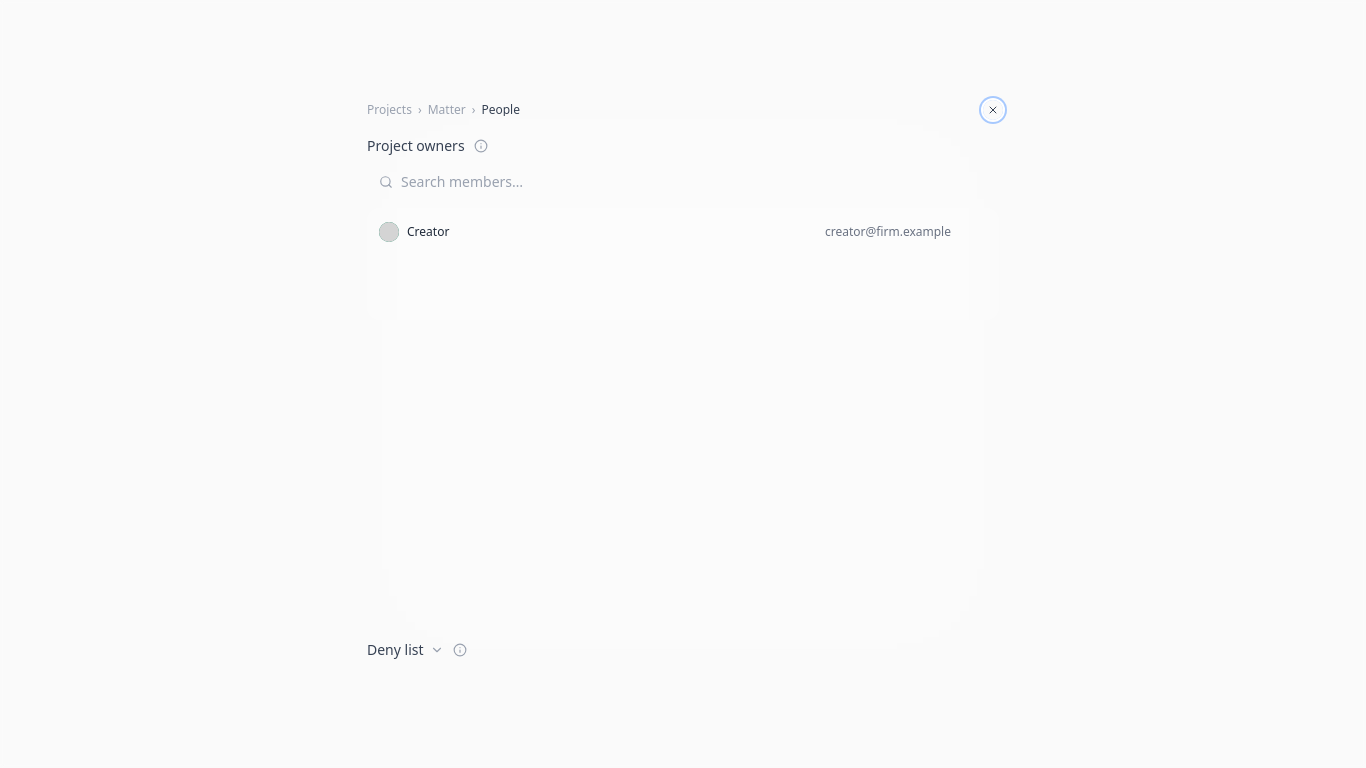
AccessModal — per-recipient roles › offers an organization's public item more owners and the deny list
Type "jane" into the search field labelled "Project owners" at (694, 182), box [401, 172, 987, 192]
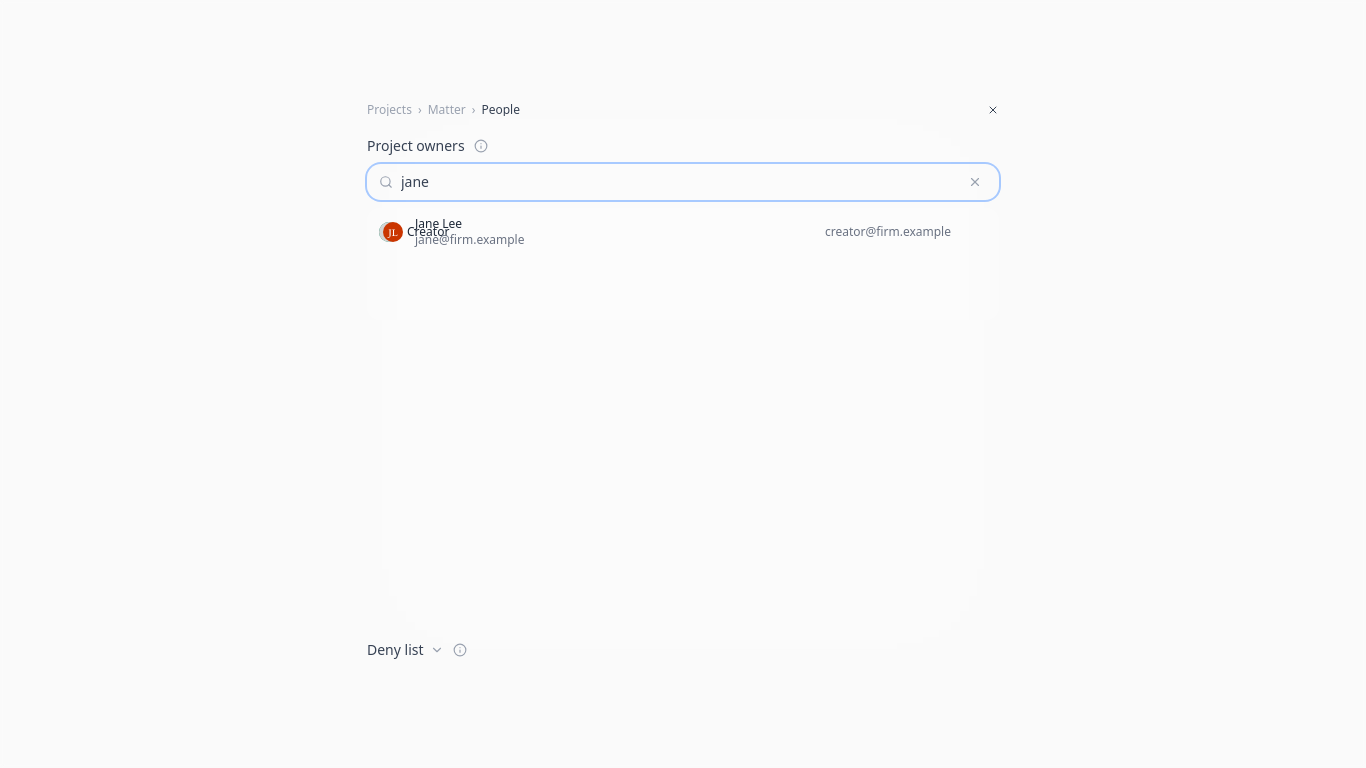
Result: the text "Jane Lee" is shown at [415, 215, 462, 232]
Clear the search field labelled "Project owners" at (678, 182), box [401, 172, 955, 192]
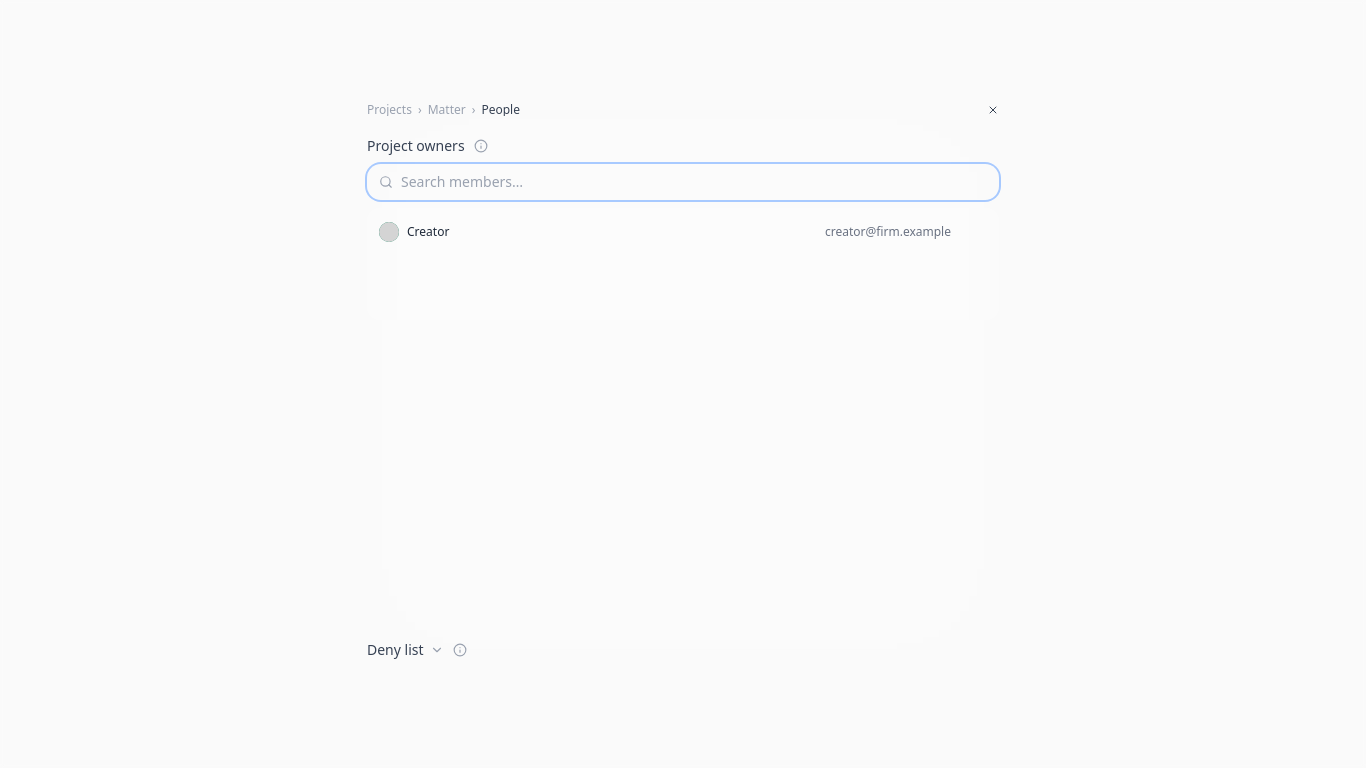
Click the button "Deny list" at (405, 650), box [367, 640, 444, 660]
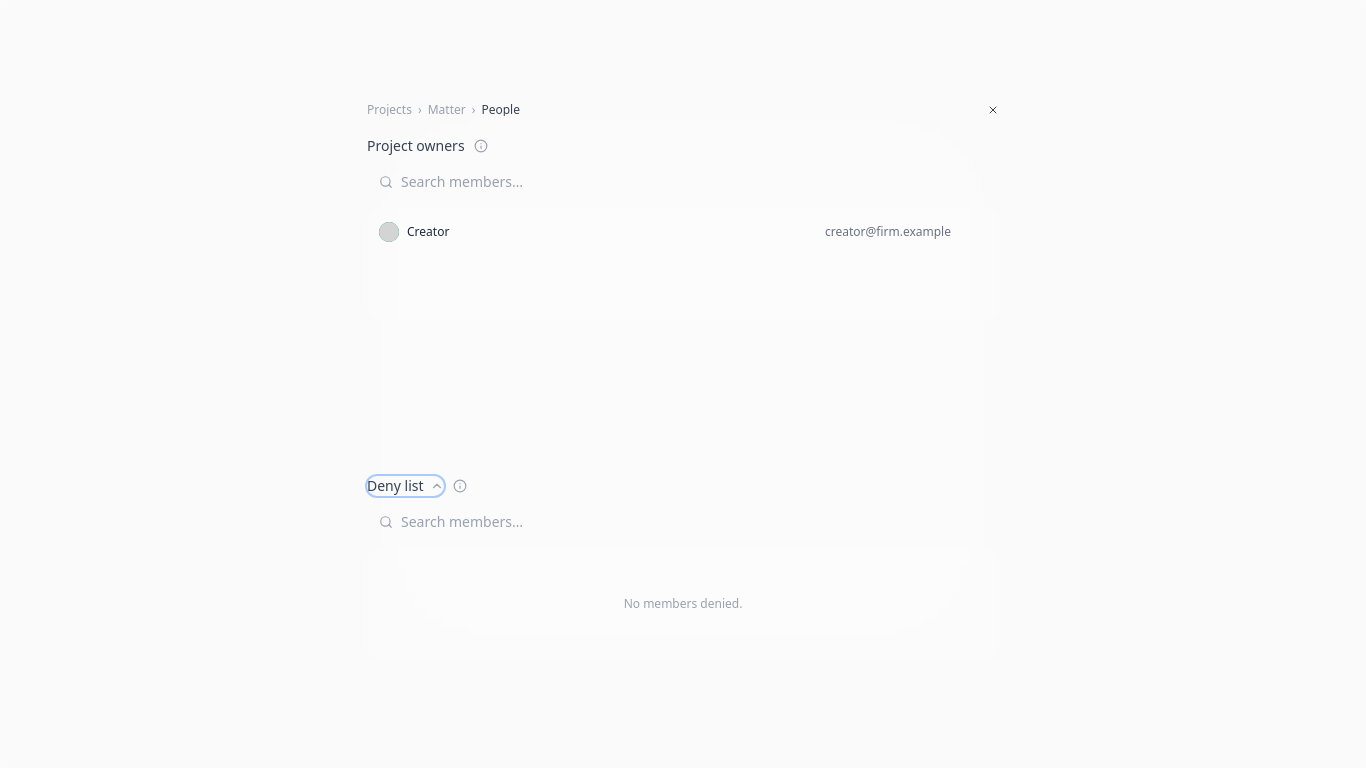
Result: the search field named "Deny list" is shown at [401, 512, 987, 532]
